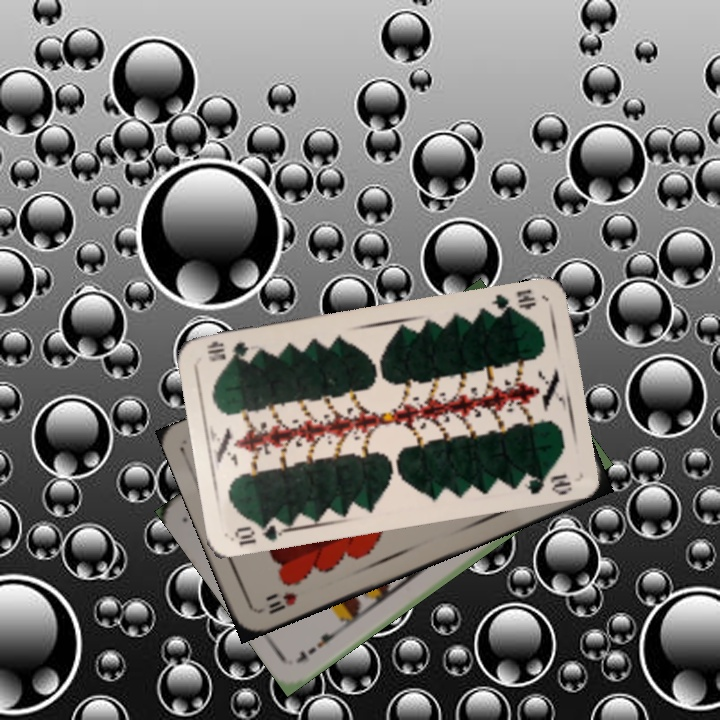E7: (292, 624, 343, 666)
G10: (230, 515, 288, 549), (488, 285, 539, 317)
H10: (256, 587, 300, 617)
